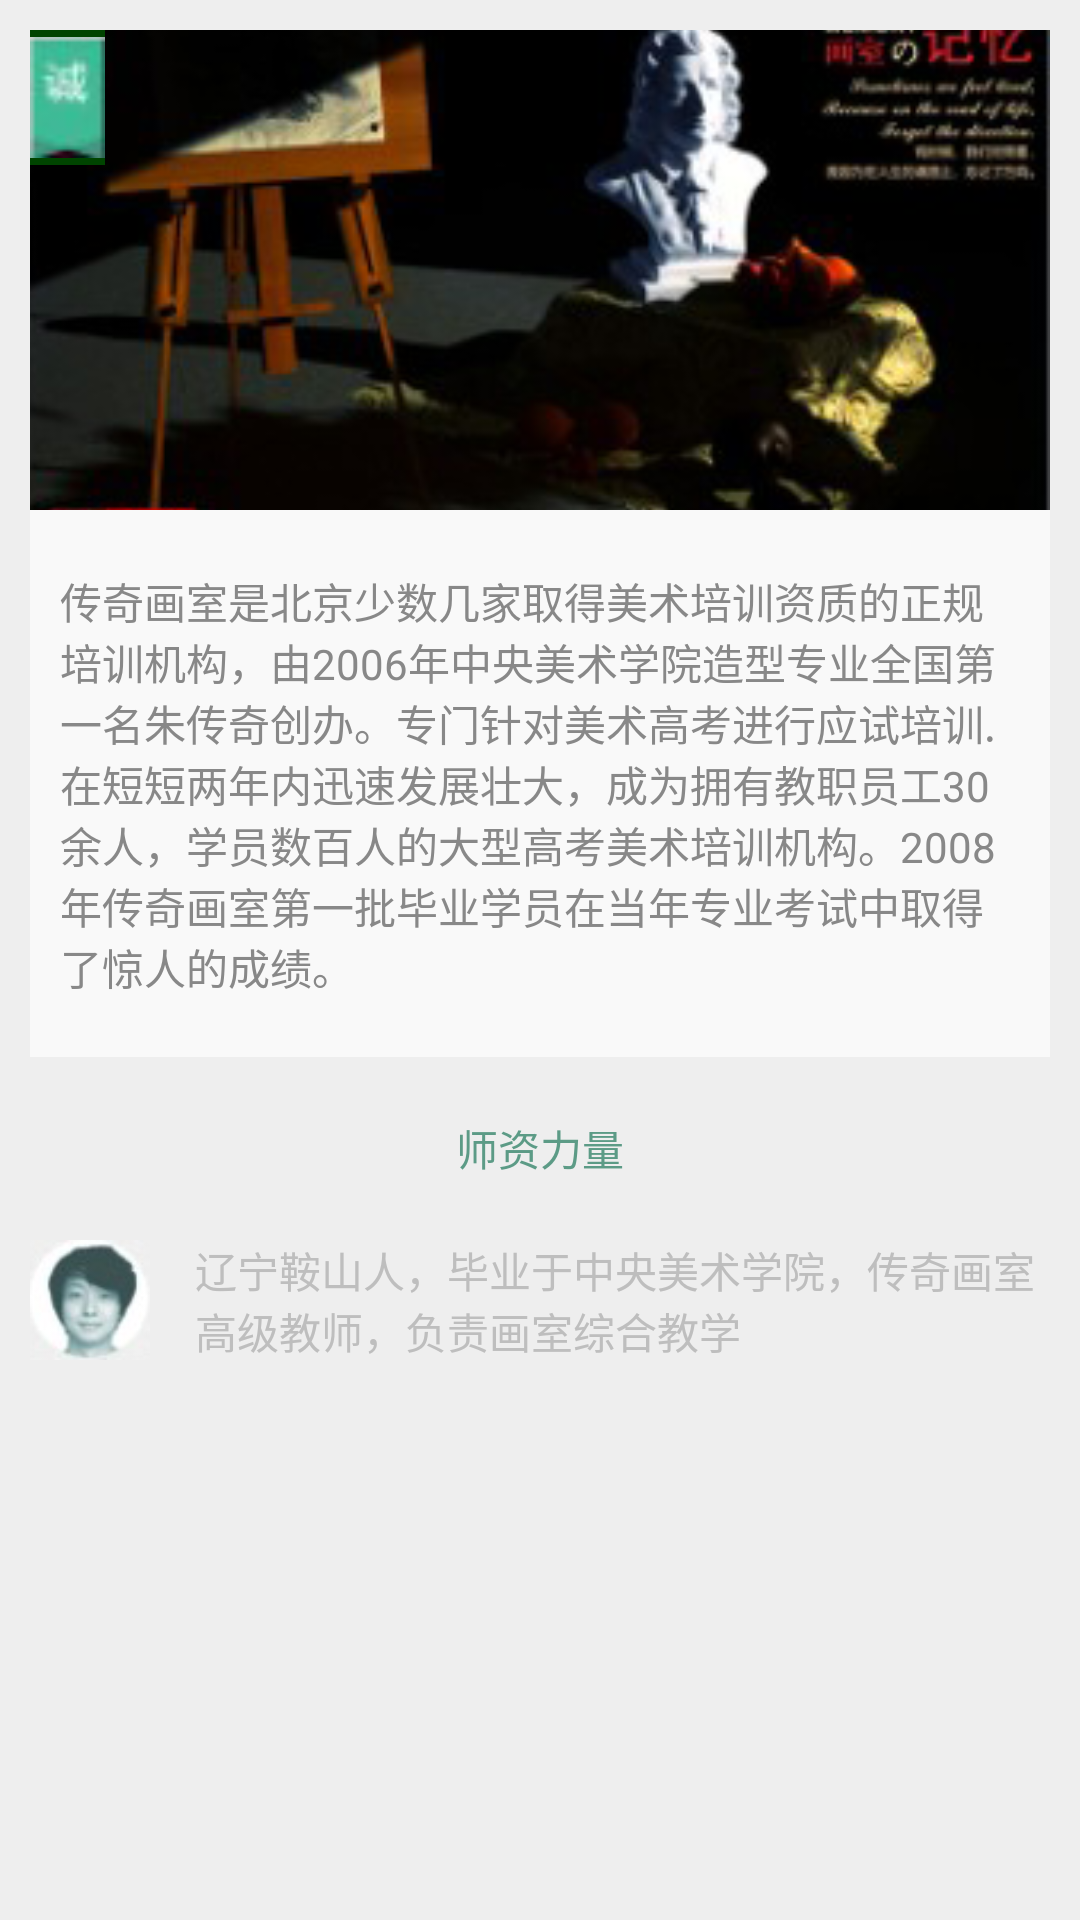

Where icons sit on this 1080 x 1920 app screen, as (x1, y1, x2, y2):
atelier introduce man: (47, 1244, 137, 1358)
